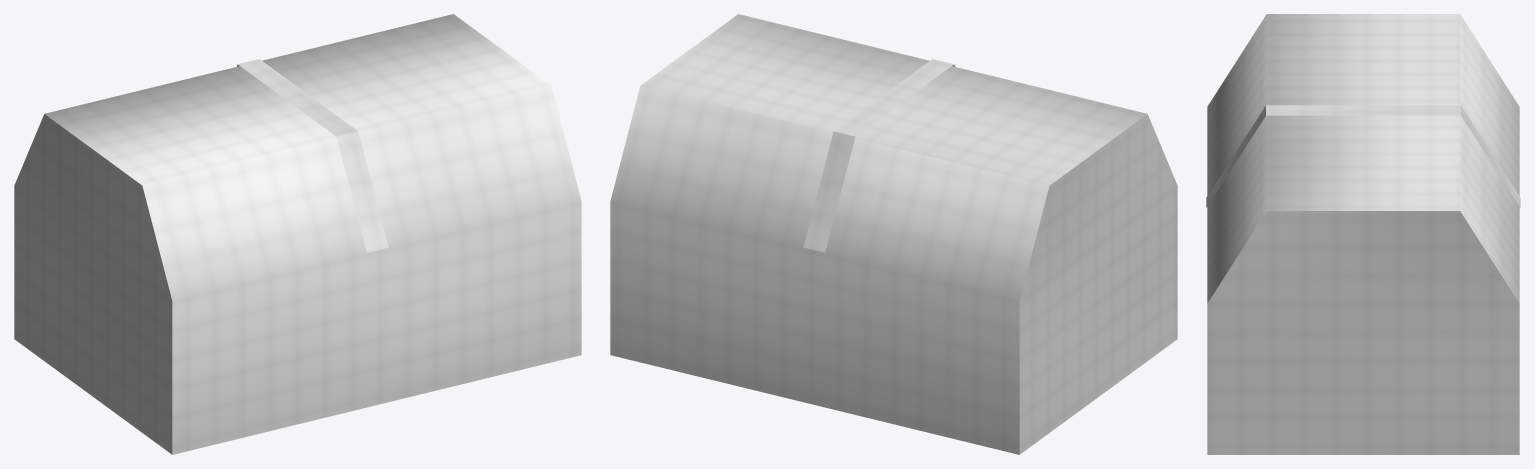
Rendered from food_hay_a.obj.
3 views of the same model, side by side, from view 1: azimuth 30°, elevation 25°; view 2: azimuth 150°, elevation 25°; view 3: azimuth 270°, elevation 25° (orthographic).
Parts seen in each view (by area): view 1: bale_1, tie_1; view 2: bale_1, tie_1; view 3: bale_1, tie_1.
Boxes of the visible parts, x1,y1,x2,y2 form: bale_1: (14, 14, 581, 454); tie_1: (236, 59, 388, 252); bale_1: (610, 14, 1177, 454); tie_1: (803, 59, 955, 252); bale_1: (1207, 14, 1519, 454); tie_1: (1206, 105, 1520, 207).
Bounding box in the file's own units: 0.464 × 0.2701 × 0.3132.
